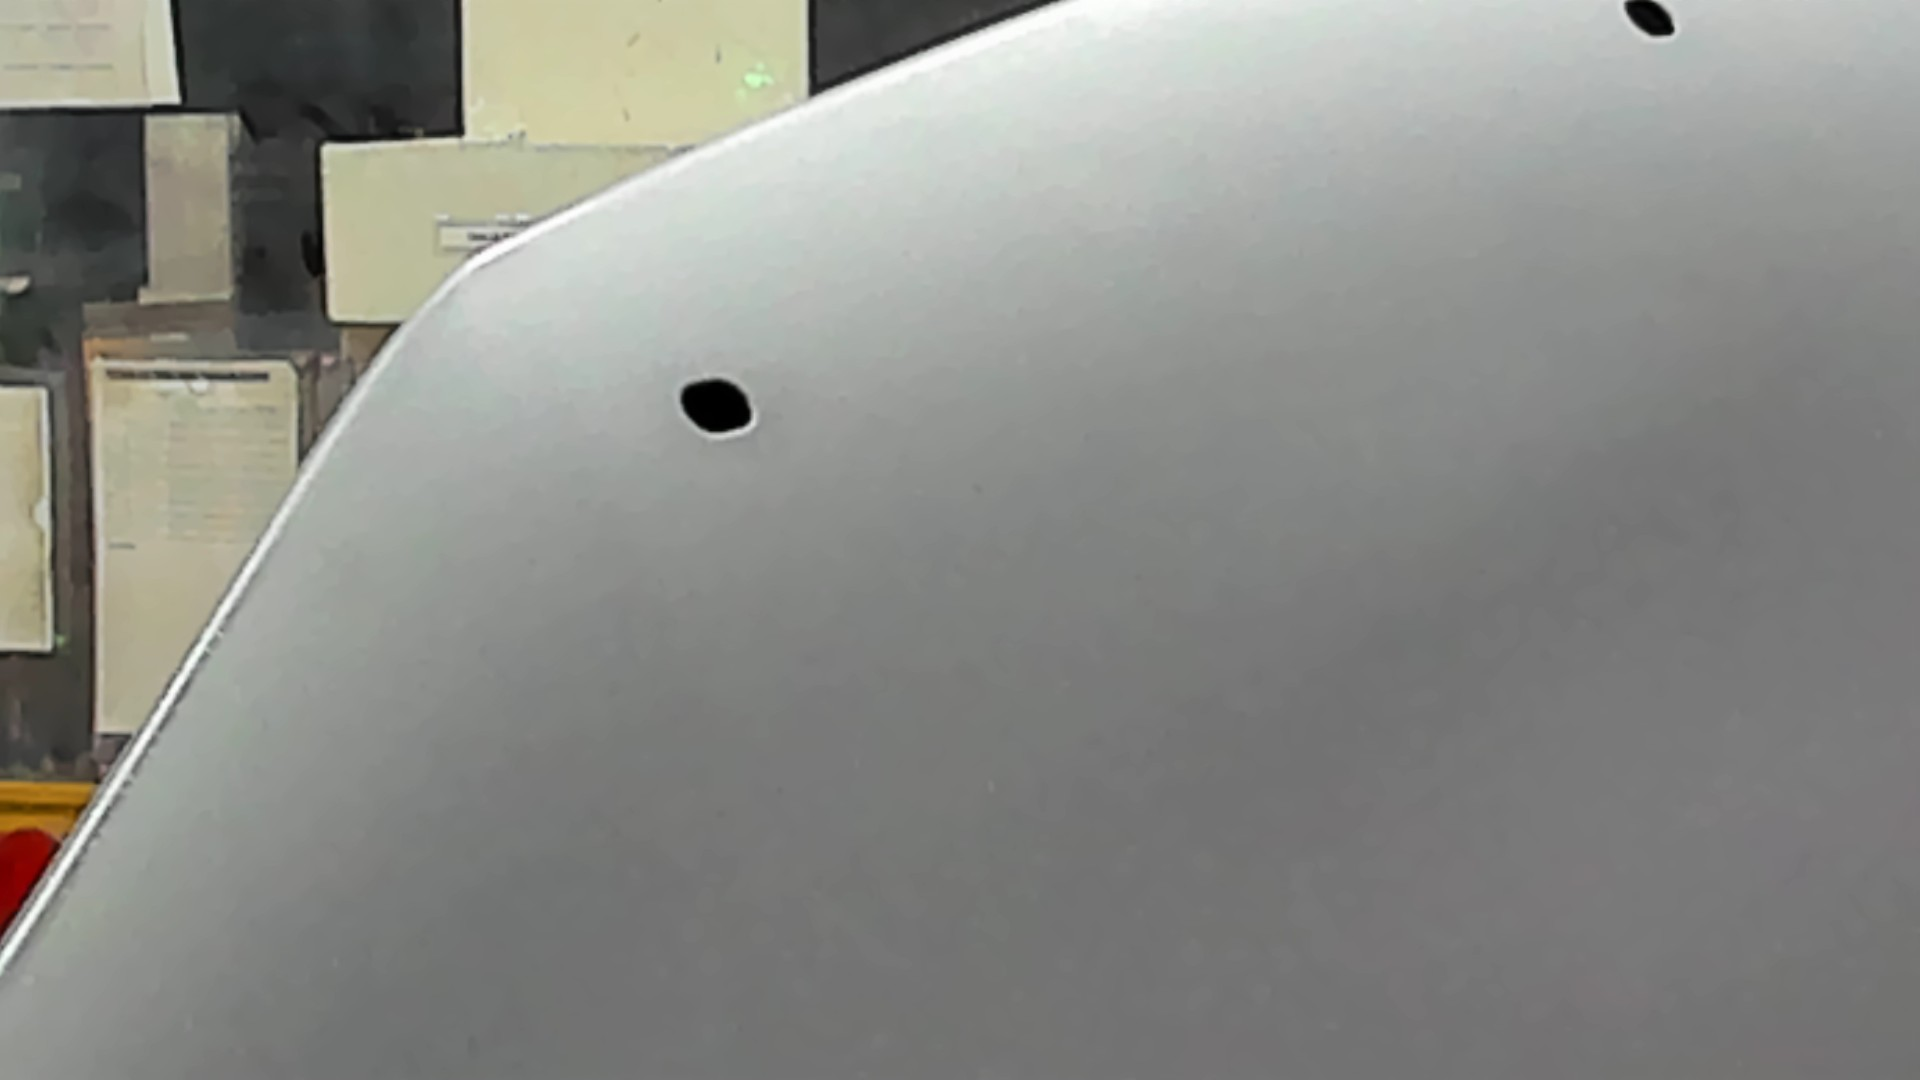chico: (674, 376, 767, 444), (1619, 1, 1680, 45)
